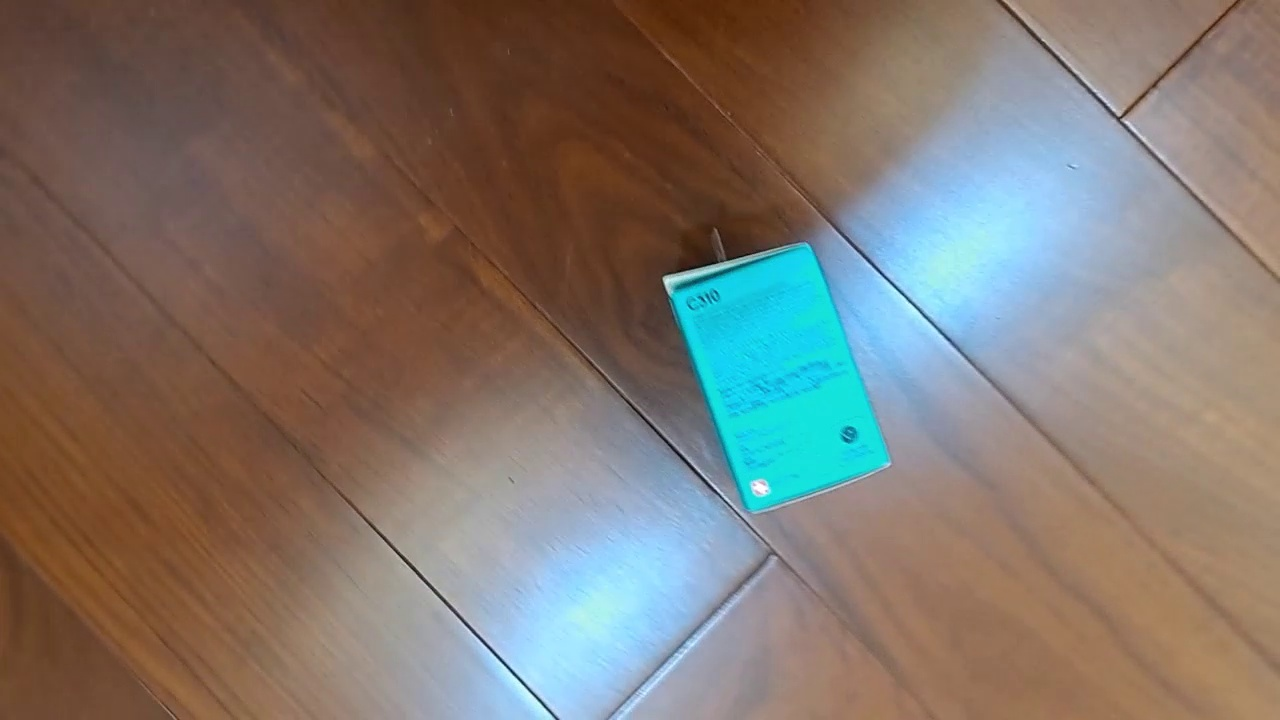webcam: (661, 241, 893, 515)
